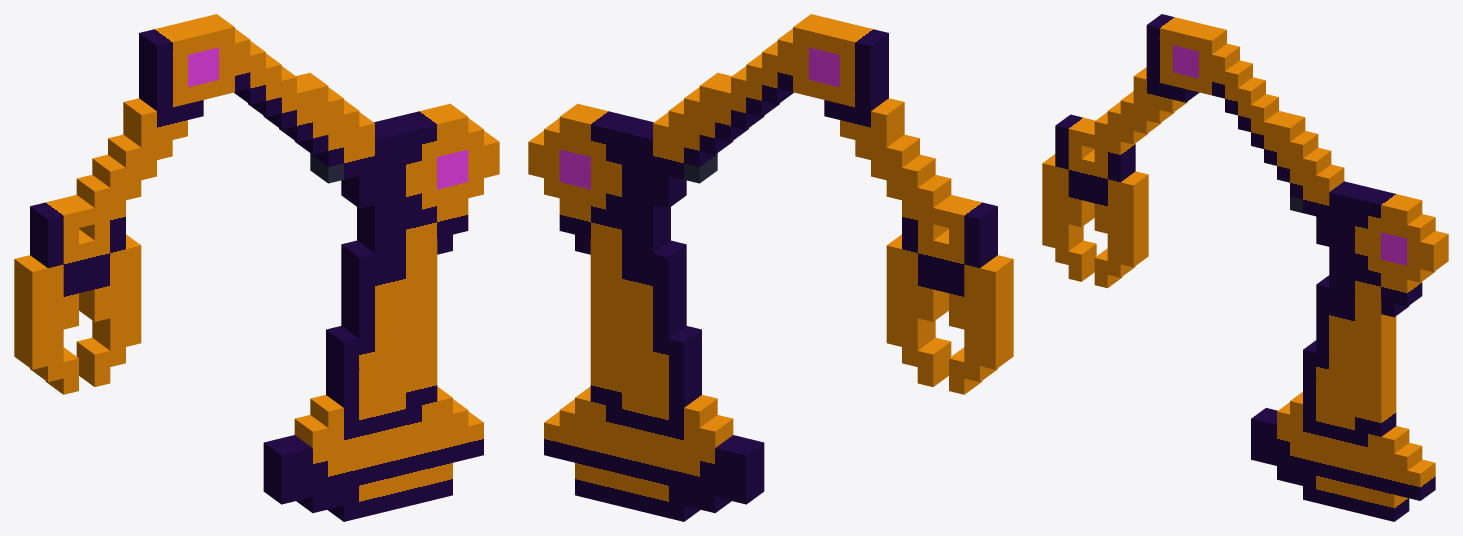
Rendered from robohand_voxel.glb.
3 renders of one model, left to right at view 1: azimuth 30°, elevation 25°; view 2: azimuth 150°, elevation 25°; view 3: azimuth 330°, elevation 25°, orthographic. The views are drawn at different scales.
Visible parts, largest first — view 1: Object_4; view 2: Object_4; view 3: Object_4.
Boxes of the visible parts, x1,y1,x2,y2 form: Object_4: (14,14,499,521); Object_4: (528,14,1013,521); Object_4: (1042,14,1448,521).
Bounding box in the file's own units: 30 × 32 × 2.
1 material, 1 textured.
